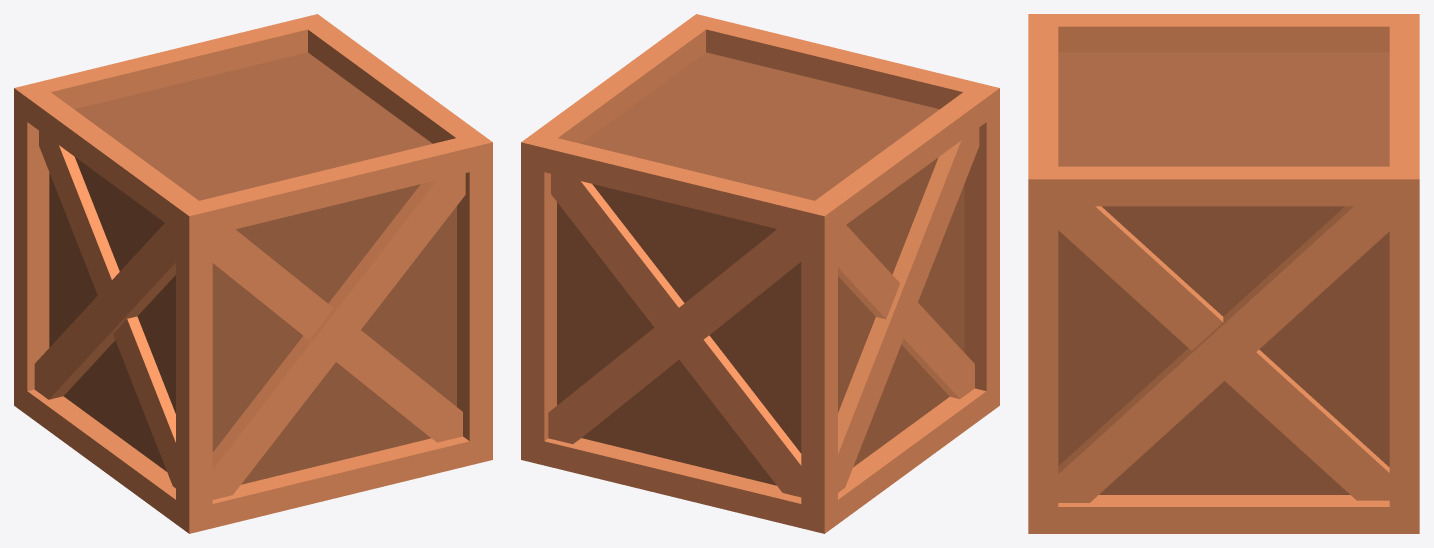
File: crate.fbx
3 renders of one model, left to right at view 1: azimuth 30°, elevation 25°; view 2: azimuth 150°, elevation 25°; view 3: azimuth 270°, elevation 25°, orthographic. The views are drawn at different scales.
Parts seen in each view (by area): view 1: crate; view 2: crate; view 3: crate.
Part boxes in pixels (box(x1,y1,x2,y2)): crate: box(14, 14, 492, 533); crate: box(521, 14, 999, 533); crate: box(1028, 14, 1419, 533).
Size of the model in its own units: 1.62 by 1.62 by 1.62.
